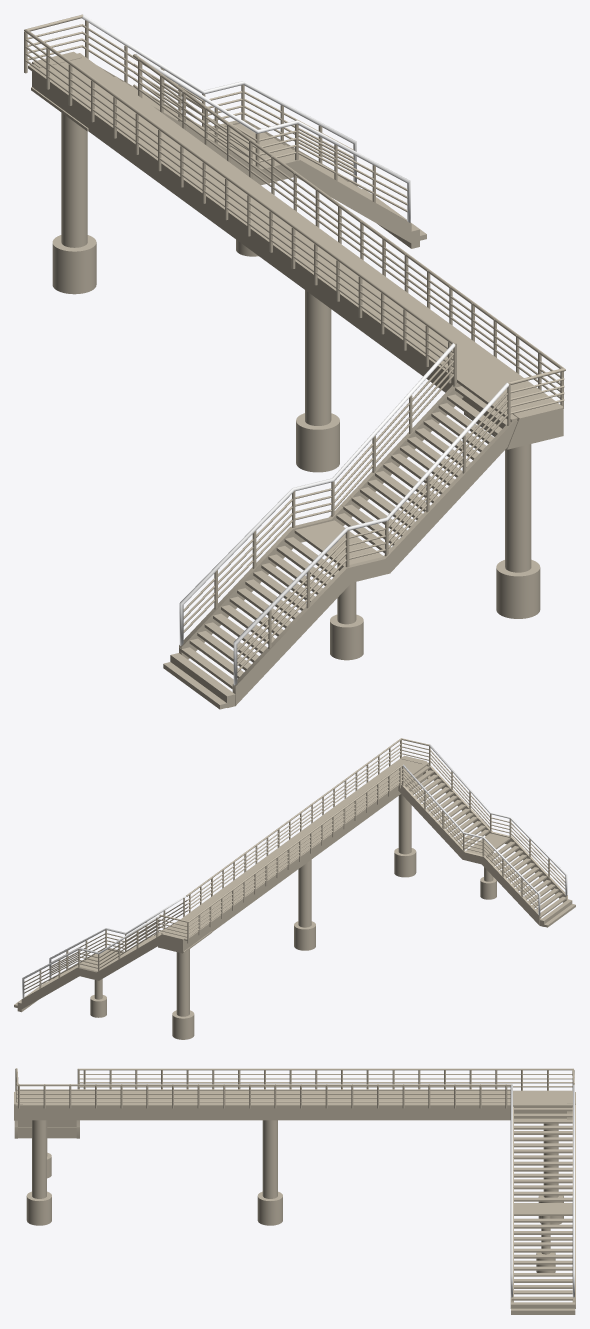
The model's file is footbridge.glb.
3 renders of one model, top to bottom at view 1: azimuth 30°, elevation 25°; view 2: azimuth 150°, elevation 25°; view 3: azimuth 270°, elevation 25°, orthographic. The views are drawn at different scales.
Parts seen in each view (by area): view 1: land_1_2, land_2_3, Sweep_1_8, Sweep_1_9, Sweep_1_7, Cylinder, Cylinder_8, Cylinder_1, Sweep, Sweep_1, Cylinder_9, Cylinder_4 (+26 smaller); view 2: land_1_2, land_2_3, Sweep_1_9, Sweep_1_6, Sweep_1_8, Cylinder_8, Cylinder, Cylinder_1, Sweep, Sweep_1, Cylinder_4, Cylinder_9 (+15 smaller); view 3: land_1_2, land_2_2, Sweep, Sweep_1, Cylinder, Cylinder_1, Sweep_2_2, Sweep_2_3, Sweep_1_3, Sweep_3, Sweep_1_2, Sweep_2 (+10 smaller).
Boxes of the visible parts, x1=… form: land_1_2: x1=28, y1=53, x2=563, y2=422; land_2_3: x1=34, y1=73, x2=504, y2=428; Sweep_1_8: x1=232, y1=419, x2=517, y2=705; Sweep_1_9: x1=179, y1=382, x2=463, y2=659; Sweep_1_7: x1=151, y1=105, x2=411, y2=243; Cylinder: x1=305, y1=290, x2=331, y2=425; Cylinder_8: x1=61, y1=112, x2=87, y2=247; Cylinder_1: x1=505, y1=444, x2=531, y2=572; Sweep: x1=24, y1=14, x2=455, y2=343; Sweep_1: x1=133, y1=54, x2=565, y2=384; Cylinder_9: x1=52, y1=235, x2=96, y2=294; Cylinder_4: x1=496, y1=559, x2=540, y2=618; land_1_2: x1=161, y1=756, x2=428, y2=940; land_2_3: x1=184, y1=773, x2=422, y2=950; Sweep_1_9: x1=398, y1=784, x2=541, y2=925; Sweep_1_6: x1=21, y1=934, x2=161, y2=1008; Sweep_1_8: x1=427, y1=764, x2=567, y2=902; Cylinder_8: x1=176, y1=949, x2=189, y2=1016; Cylinder: x1=298, y1=859, x2=311, y2=927; Cylinder_1: x1=398, y1=790, x2=411, y2=854; Sweep: x1=159, y1=764, x2=403, y2=922; Sweep_1: x1=187, y1=738, x2=429, y2=896; Cylinder_4: x1=394, y1=848, x2=416, y2=877; Cylinder_9: x1=172, y1=1010, x2=194, y2=1039; land_1_2: x1=15, y1=1090, x2=572, y2=1106; land_2_2: x1=23, y1=1106, x2=572, y2=1120; Sweep: x1=78, y1=1068, x2=574, y2=1084; Sweep_1: x1=15, y1=1068, x2=512, y2=1086; Cylinder: x1=262, y1=1120, x2=277, y2=1198; Cylinder_1: x1=32, y1=1120, x2=46, y2=1198; Sweep_2_2: x1=17, y1=1089, x2=510, y2=1090; Sweep_2_3: x1=79, y1=1082, x2=572, y2=1083; Sweep_1_3: x1=79, y1=1078, x2=572, y2=1079; Sweep_3: x1=17, y1=1101, x2=510, y2=1102; Sweep_1_2: x1=17, y1=1093, x2=510, y2=1094; Sweep_2: x1=17, y1=1097, x2=510, y2=1098.
Bounding box in the file's own units: 15.17 × 5.94 × 20.07.
